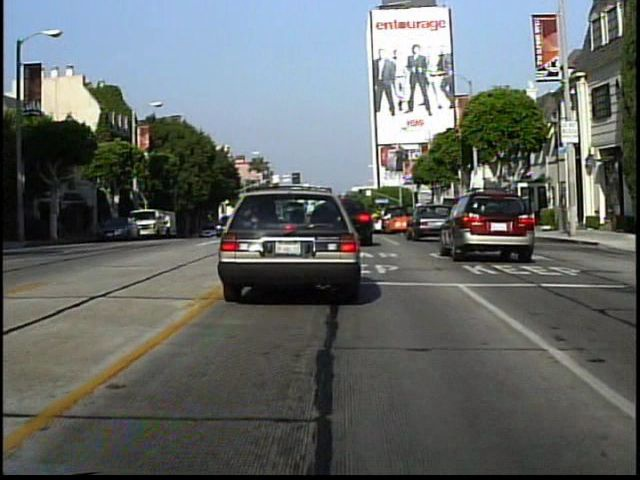person: (162, 209, 174, 242)
